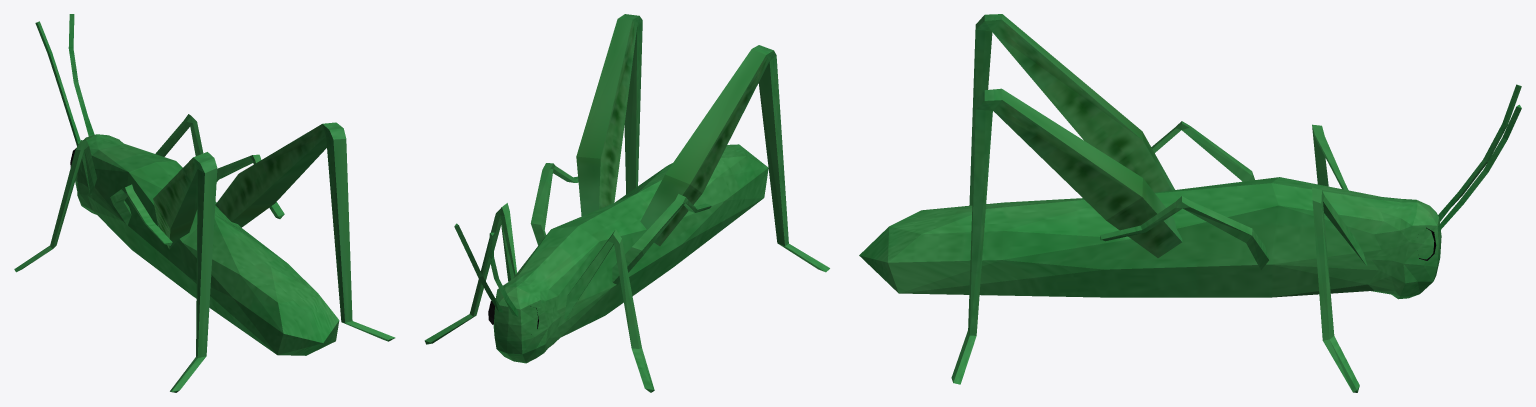
The model's file is grasshopper.glb.
3 views of the same model, side by side, from view 1: azimuth 30°, elevation 25°; view 2: azimuth 150°, elevation 25°; view 3: azimuth 270°, elevation 25° (orthographic). The views are drawn at different scales.
Visible parts, largest first — view 1: ZtoY, legs4, antenna64; view 2: legs4, ZtoY, antenna64; view 3: ZtoY, legs4, antenna64.
Part boxes in pixels (x1=…): ZtoY: x1=75, y1=134, x2=339, y2=355; legs4: x1=14, y1=114, x2=395, y2=392; antenna64: x1=35, y1=14, x2=94, y2=145; legs4: x1=424, y1=14, x2=829, y2=392; ZtoY: x1=493, y1=144, x2=768, y2=363; antenna64: x1=454, y1=223, x2=518, y2=316; ZtoY: x1=859, y1=177, x2=1441, y2=299; legs4: x1=951, y1=14, x2=1367, y2=392; antenna64: x1=1438, y1=84, x2=1521, y2=231.
Bounding box in the file's own units: 3.8 × 3.52 × 7.78.
Materials: 1 (1 with a texture image).
